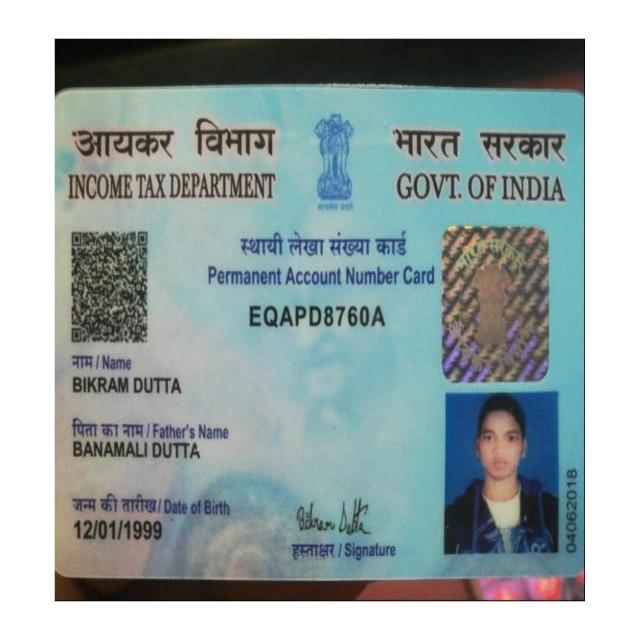pan_card: (54, 92, 583, 574)
